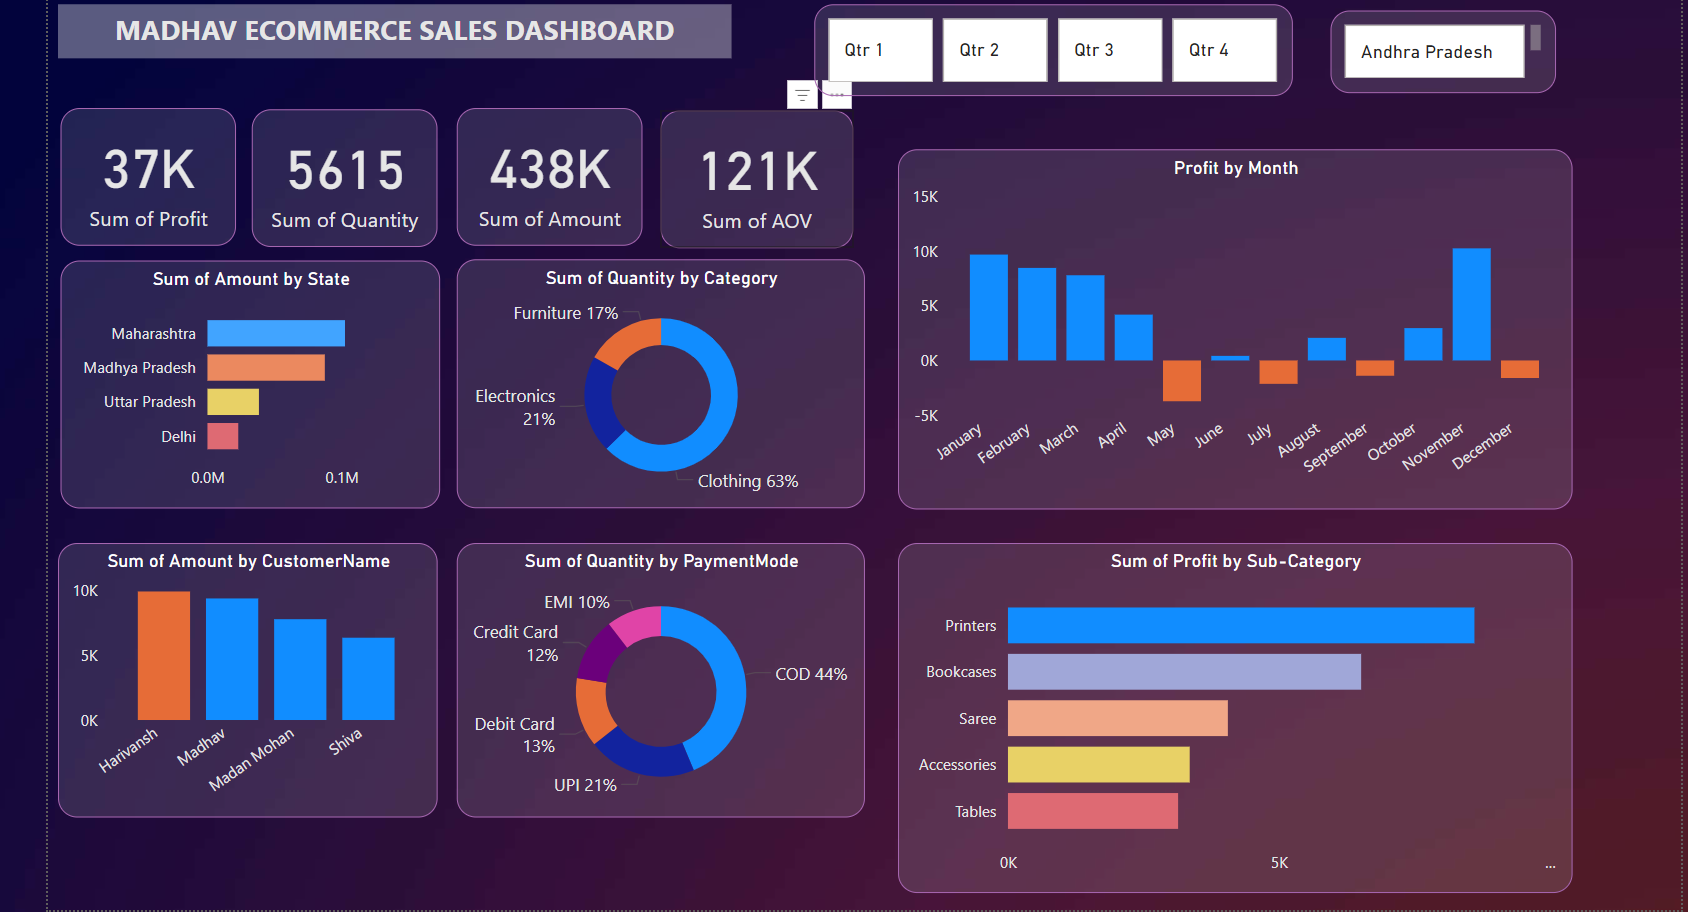

Layout of this report page (visuals, bound fields, positions):
{"tool":"powerbi","page":{"name":"Page 1","canvas":[1280,720],"ordinal":0},"visuals":[{"type":"textbox","box":[7.8,8.9,527.8,42.2],"z":0},{"type":"columnChart","title":"Profit by Month","fields":{"Category":["Orders.Order Date.Variation.Date Hierarchy.Month"],"Y":["Details.Profit"]},"box":[666.7,122.2,528.9,282.2],"z":1000},{"type":"barChart","fields":{"Category":["Details.Sub-Category"],"Y":["Details.Profit"]},"box":[666.7,431.1,528.9,274.4],"z":2000},{"type":"donutChart","fields":{"Category":["Details.Category"],"Y":["Details.Quantity"]},"box":[320,208.9,320,195.6],"z":3000},{"type":"donutChart","fields":{"Y":["Details.Quantity"],"Category":["Details.PaymentMode"]},"box":[320,431.1,320,215.6],"z":4000},{"type":"card","fields":{"Values":["Details.Amount"]},"box":[320,90,145.6,107.8],"z":5000},{"type":"card","fields":{"Values":["Details.Profit"]},"box":[10,90,137.8,107.8],"z":6000},{"type":"card","fields":{"Values":["Details.Quantity"]},"box":[160,91.1,145.6,107.8],"z":7000},{"type":"card","fields":{"Values":["Details.AOV"]},"box":[480,92.2,151.1,107.8],"z":8000},{"type":"barChart","fields":{"Category":["Orders.State"],"Y":["Details.Amount"]},"box":[10,210,297.8,194.4],"z":9000},{"type":"columnChart","fields":{"Category":["Orders.CustomerName"],"Y":["Details.Amount"]},"box":[7.8,431.1,297.8,215.6],"z":10000},{"type":"advancedSlicerVisual","fields":{"Values":["Orders.Order Date.Variation.Date Hierarchy.Quarter"]},"box":[601.1,8.9,375.6,72.2],"z":11000},{"type":"advancedSlicerVisual","fields":{"Values":["Orders.State"]},"box":[1005.6,13.3,176.7,64.4],"z":12000}]}

Visuals, with their boxes on the page's 1280x720 design canvas (x1, y1, x2, y2). These are canvas units, not pixel positions in the 1688x912 screenshot, which may show the page scaled, cropped or inside an application window:
textbox: pyautogui.locateOnScreen(8, 9, 536, 51)
"Profit by Month" columnChart: pyautogui.locateOnScreen(667, 122, 1196, 404)
barChart - Details.Sub-Category x Details.Profit: pyautogui.locateOnScreen(667, 431, 1196, 706)
donutChart - Details.Category x Details.Quantity: pyautogui.locateOnScreen(320, 209, 640, 404)
donutChart - Details.Quantity x Details.PaymentMode: pyautogui.locateOnScreen(320, 431, 640, 647)
card - Details.Amount: pyautogui.locateOnScreen(320, 90, 466, 198)
card - Details.Profit: pyautogui.locateOnScreen(10, 90, 148, 198)
card - Details.Quantity: pyautogui.locateOnScreen(160, 91, 306, 199)
card - Details.AOV: pyautogui.locateOnScreen(480, 92, 631, 200)
barChart - Orders.State x Details.Amount: pyautogui.locateOnScreen(10, 210, 308, 404)
columnChart - Orders.CustomerName x Details.Amount: pyautogui.locateOnScreen(8, 431, 306, 647)
advancedSlicerVisual - Orders.Order Date.Variation.Date Hierarchy.Quarter: pyautogui.locateOnScreen(601, 9, 977, 81)
advancedSlicerVisual - Orders.State: pyautogui.locateOnScreen(1006, 13, 1182, 78)
